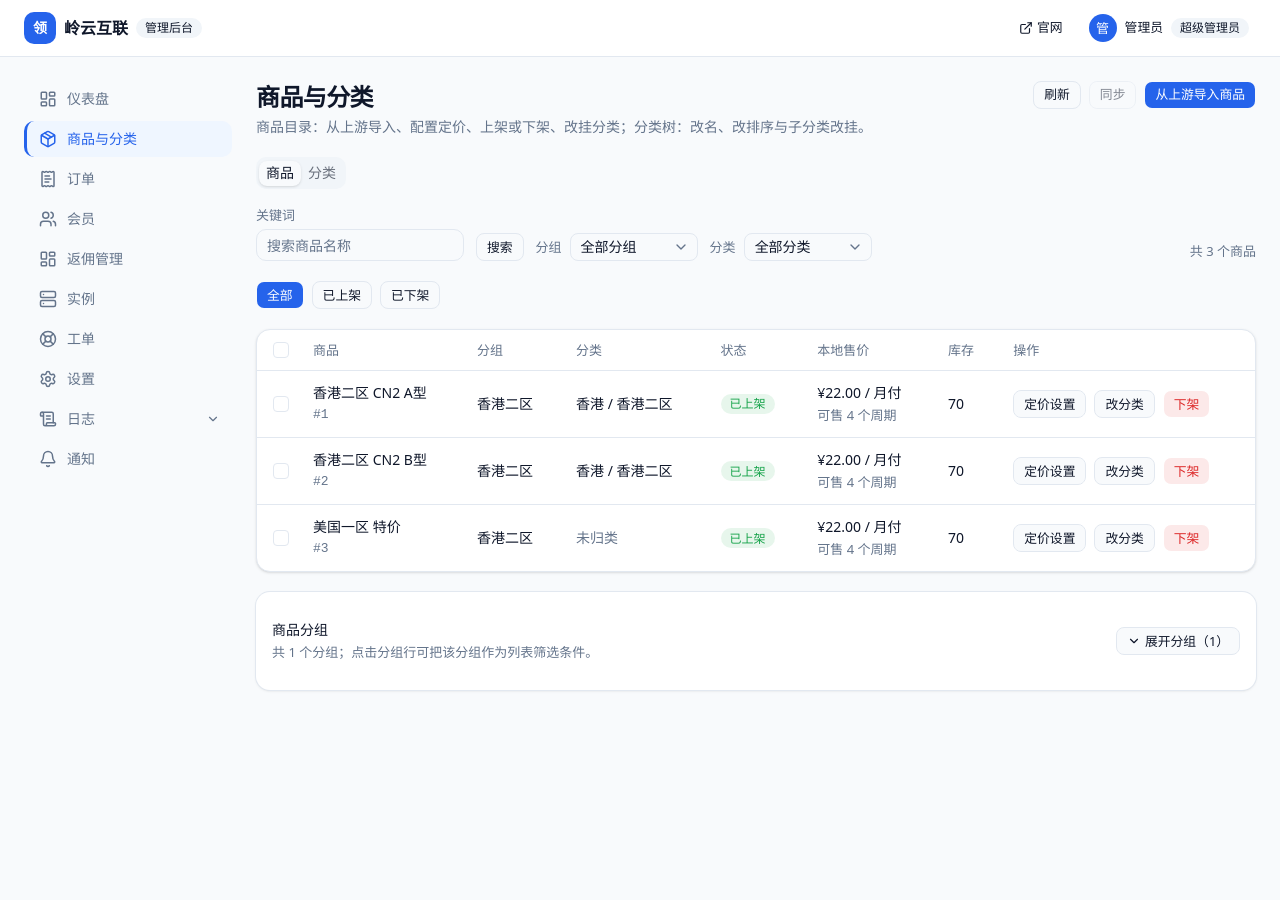
Scenario: 管理后台 · 商品同步（R20） › 结果区展示逐条结果与汇总：成功/更新/未变计数 + 失败商品与可读原因；成功后刷新列表
This screenshot has width=1280, height=900.
Check: the heading "商品与分类" is shown, box [256,80,373,113]
Check: the text "香港二区 CN2 A型" is shown, box [313,383,445,403]
What coordinates should you click on to do the following:
click the checkbox named "全选本页商品"
I would click on:
 (281, 350)
Its box is [273,342,289,358].
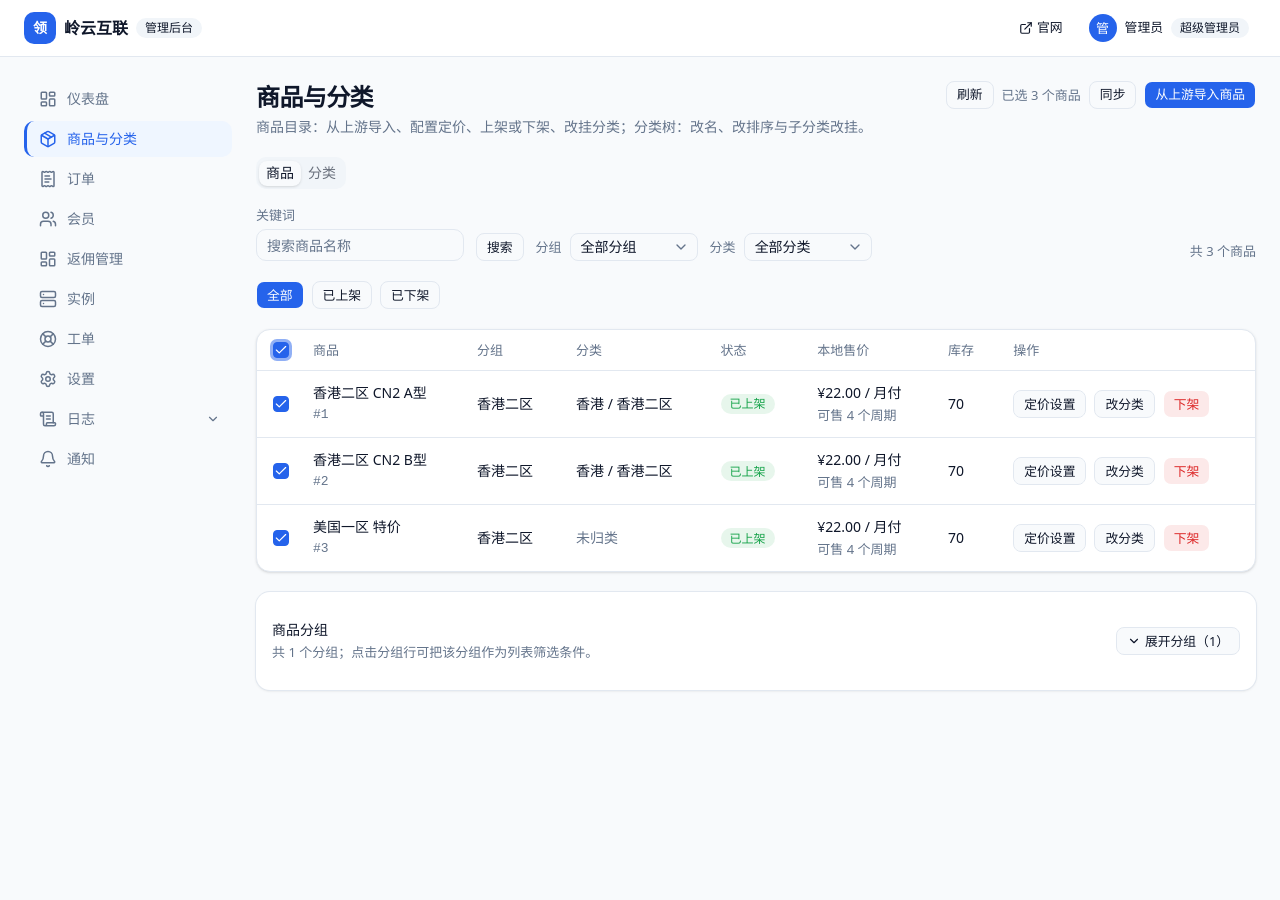
Check: the text "已选 3 个商品" is shown, box [1002,85,1081,105]
What coordinates should you click on to do the following:
click the button "同步"
I would click on:
 (1113, 95)
Its box is [1089,81,1136,109].
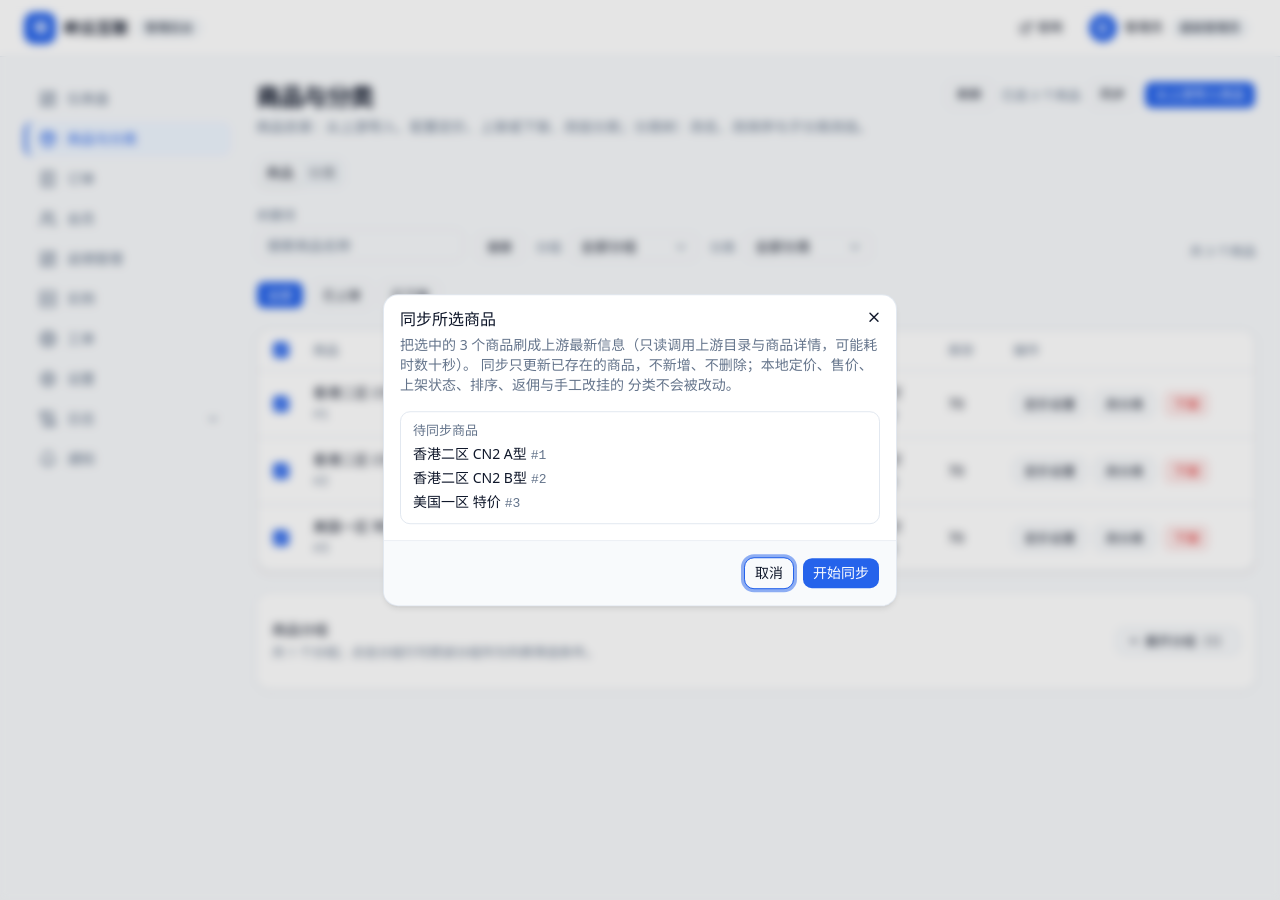
Check: the heading "同步所选商品" is shown, box [400,308,496,330]
What coordinates should you click on to do the following:
click the button "开始同步"
I would click on:
 (841, 573)
Its box is [802,557,880,589].
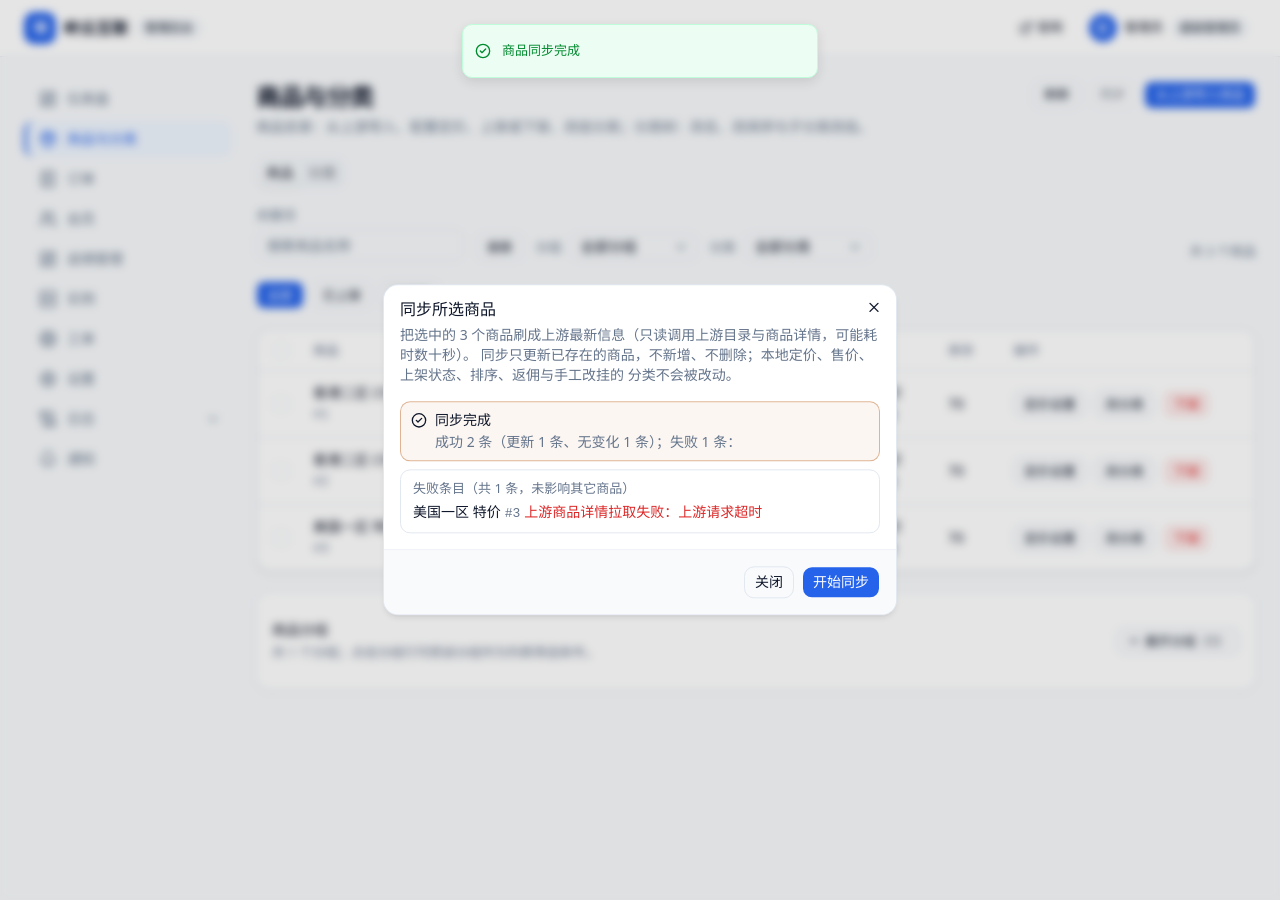
Check: the text "美国一区 特价" is shown, box [413,502,501,522]
Check: the text "#3" is shown, box [505,506,520,522]
Check: the text "成功 2 条（更新 1 条、无变化 1 条）；失败 1 条：" is shown, box [435,432,741,451]
